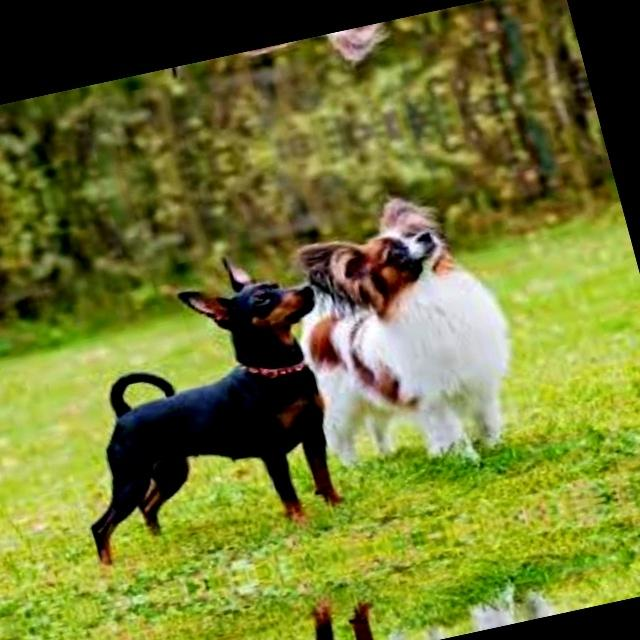dog: (27, 248, 392, 606), (105, 545, 418, 640)
